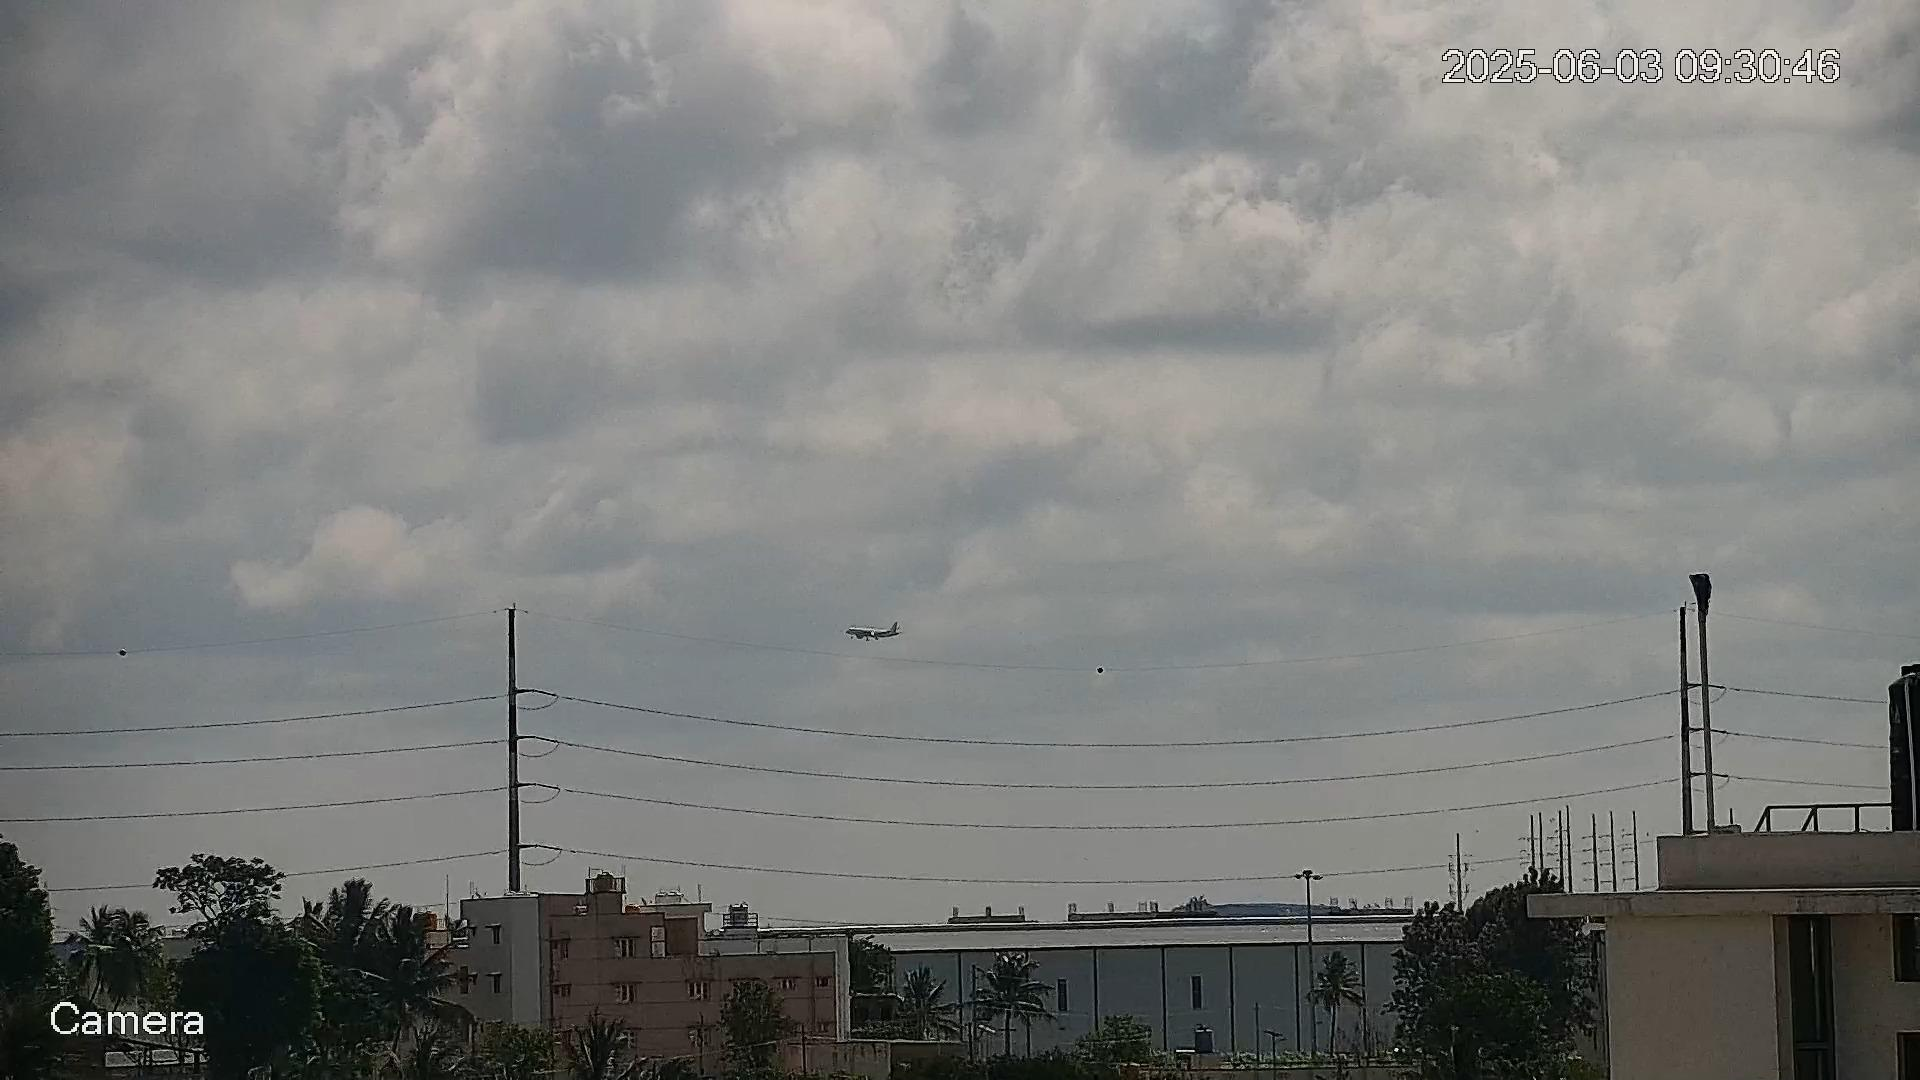Aircraft: (848, 618, 905, 642)
